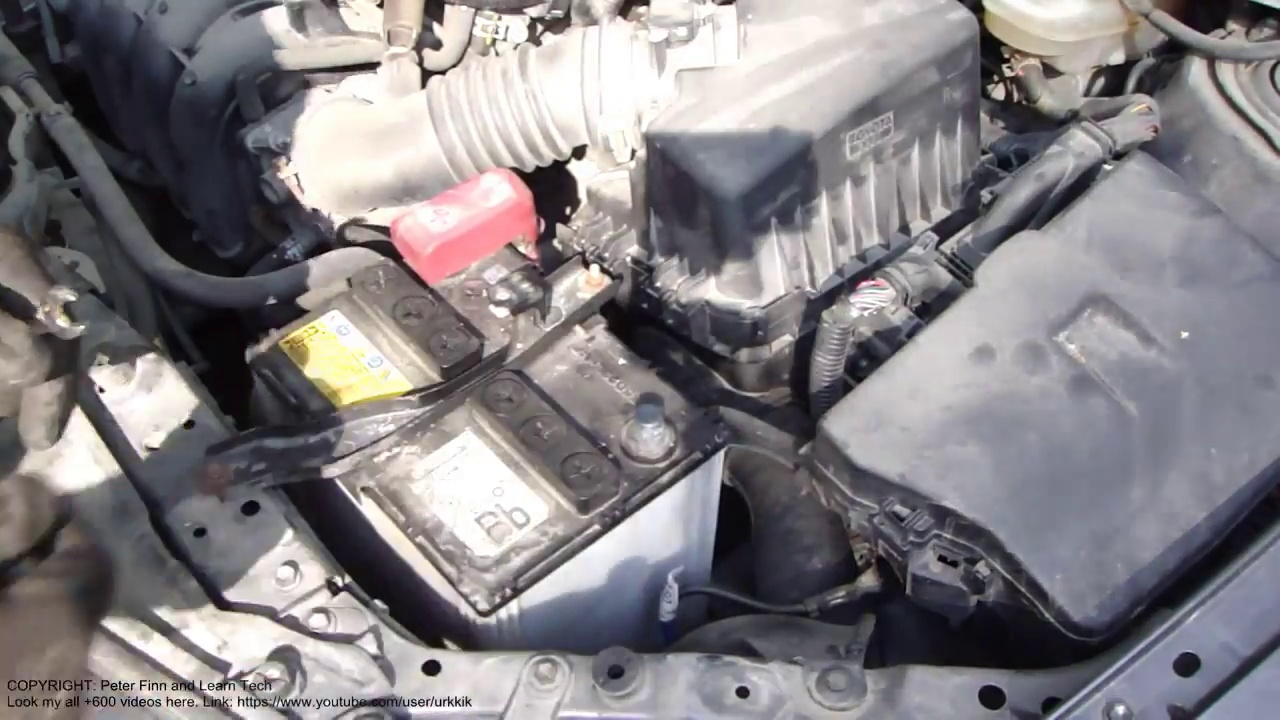battery: (235, 186, 733, 609)
neg_disconnected: (584, 386, 714, 483)
pos_connected: (353, 164, 564, 293)
